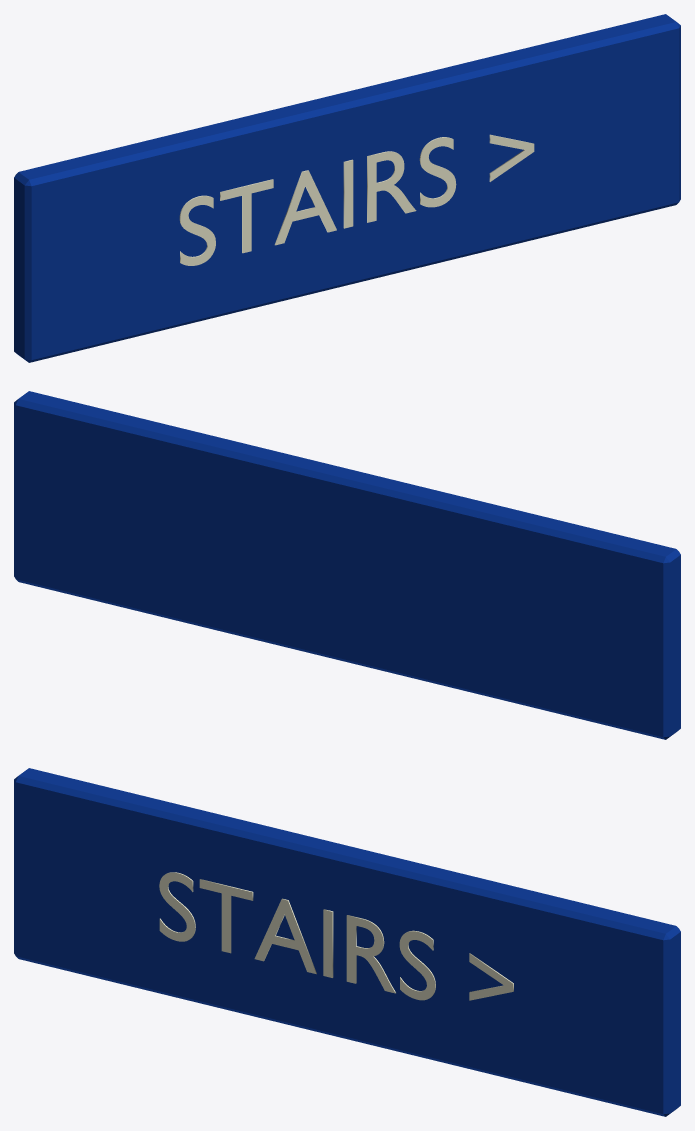
The model's file is StairsArrowSign.fbx.
3 renders of one model, top to bottom at view 1: azimuth 30°, elevation 25°; view 2: azimuth 150°, elevation 25°; view 3: azimuth 330°, elevation 25°, orthographic.
Parts seen in each view (by area): view 1: StairsArrowSign; view 2: StairsArrowSign; view 3: StairsArrowSign.
Part boxes in pixels (<box>): StairsArrowSign: <box>14,14,680,362</box>; StairsArrowSign: <box>14,391,680,739</box>; StairsArrowSign: <box>14,768,680,1116</box>.
Size of the model in its own units: 120 by 32 by 5.8.
1 material, 1 textured.
